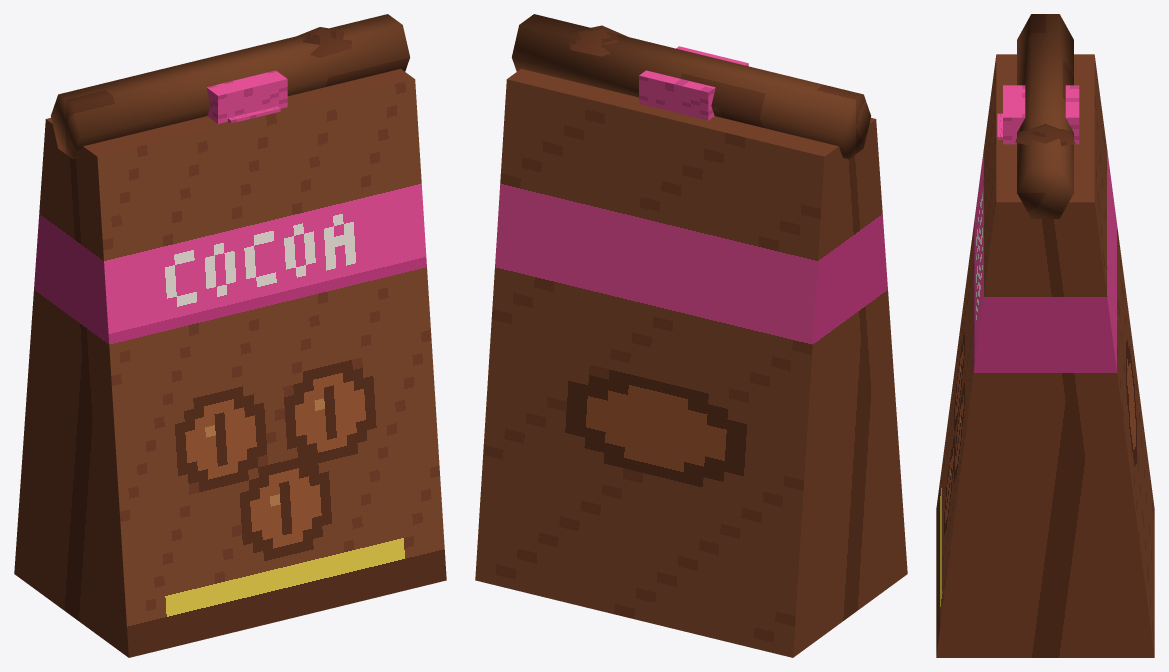
File: Cocoa Bag.fbx
3 renders of one model, left to right at view 1: azimuth 30°, elevation 25°; view 2: azimuth 150°, elevation 25°; view 3: azimuth 270°, elevation 25°, orthographic. The views are drawn at different scales.
Parts seen in each view (by area): view 1: Cocoa Bag bag, Cocoa Bag fold, Cocoa Bag clip, Cocoa Bag dust; view 2: Cocoa Bag bag, Cocoa Bag fold, Cocoa Bag clip, Cocoa Bag dust; view 3: Cocoa Bag bag, Cocoa Bag fold, Cocoa Bag clip, Cocoa Bag dust.
Part boxes in pixels (box(x1,y1,x2,y2)): Cocoa Bag bag: box(14, 69, 446, 657); Cocoa Bag fold: box(51, 14, 410, 159); Cocoa Bag clip: box(206, 70, 287, 123); Cocoa Bag dust: box(298, 27, 351, 57); Cocoa Bag bag: box(475, 69, 907, 657); Cocoa Bag fold: box(511, 14, 870, 159); Cocoa Bag clip: box(639, 46, 748, 120); Cocoa Bag dust: box(570, 25, 627, 56); Cocoa Bag bag: box(936, 54, 1154, 657); Cocoa Bag fold: box(1017, 14, 1073, 218); Cocoa Bag clip: box(1003, 85, 1079, 144); Cocoa Bag dust: box(1015, 124, 1075, 146).
Size of the model in its own units: 0.332 by 0.505 by 0.2.
Materials: 4 (4 with a texture image).
